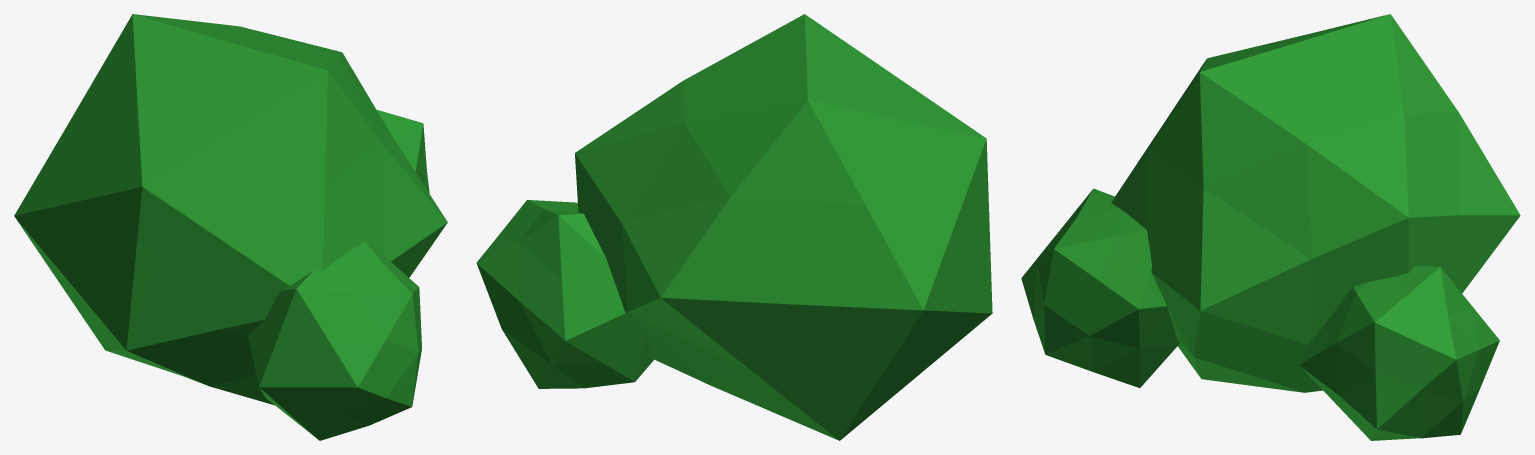
Rendered from bush4.fbx.
3 renders of one model, left to right at view 1: azimuth 30°, elevation 25°; view 2: azimuth 150°, elevation 25°; view 3: azimuth 270°, elevation 25°, orthographic. The views are drawn at different scales.
Visible parts, largest first — view 1: Icosphere.012; view 2: Icosphere.012; view 3: Icosphere.012.
Part boxes in pixels (bbox=[...]): Icosphere.012: bbox=[14, 14, 447, 440]; Icosphere.012: bbox=[476, 14, 992, 440]; Icosphere.012: bbox=[1021, 14, 1520, 440].
Bounding box in the file's own units: 177 × 140 × 188.
